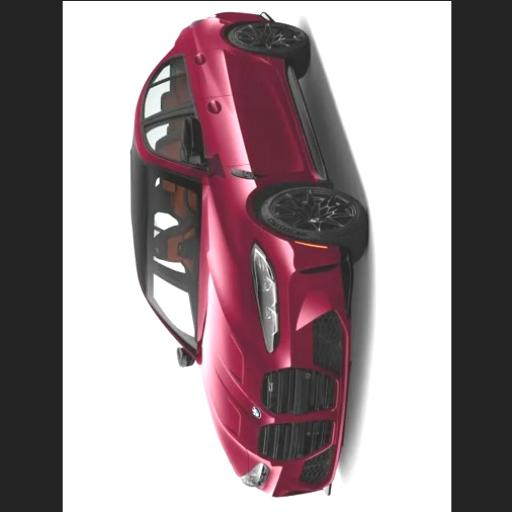sedan: (131, 13, 366, 496)
